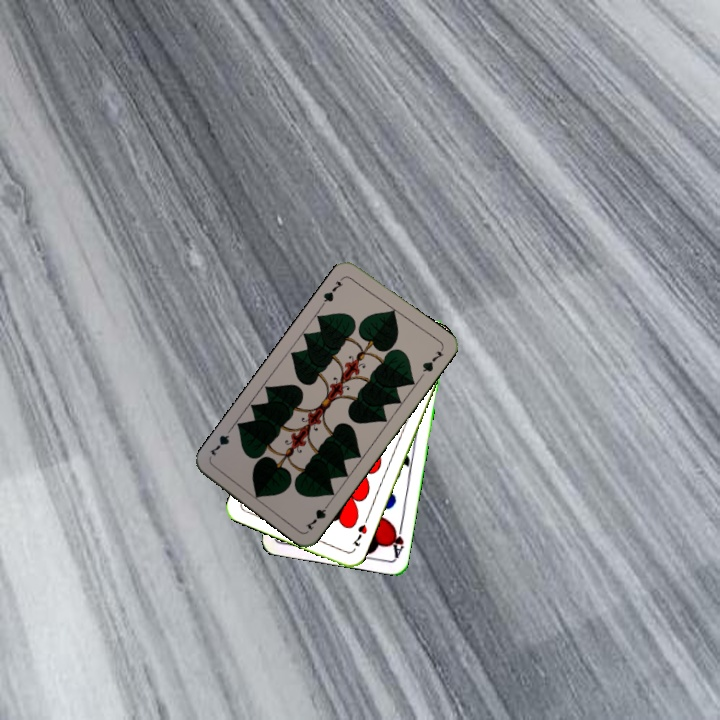G7: (301, 497, 333, 533), (318, 273, 347, 308)
H7: (349, 520, 370, 549)
HA: (387, 519, 406, 560)
